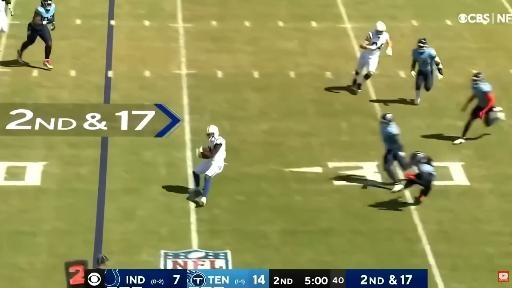Helmet: (410, 152, 426, 162), (207, 125, 218, 139), (380, 113, 393, 123), (472, 72, 483, 83), (376, 22, 386, 34), (41, 0, 52, 9), (418, 39, 427, 48)
Jersey: (362, 31, 389, 56), (412, 47, 437, 73), (380, 122, 401, 151), (472, 82, 492, 107), (208, 136, 226, 161), (36, 4, 55, 21), (416, 163, 435, 176), (0, 0, 6, 13)
Player: (454, 72, 505, 144), (352, 22, 392, 91), (193, 125, 226, 205), (18, 0, 55, 69), (411, 39, 443, 105), (380, 113, 407, 191), (404, 152, 436, 203), (0, 0, 13, 33)
